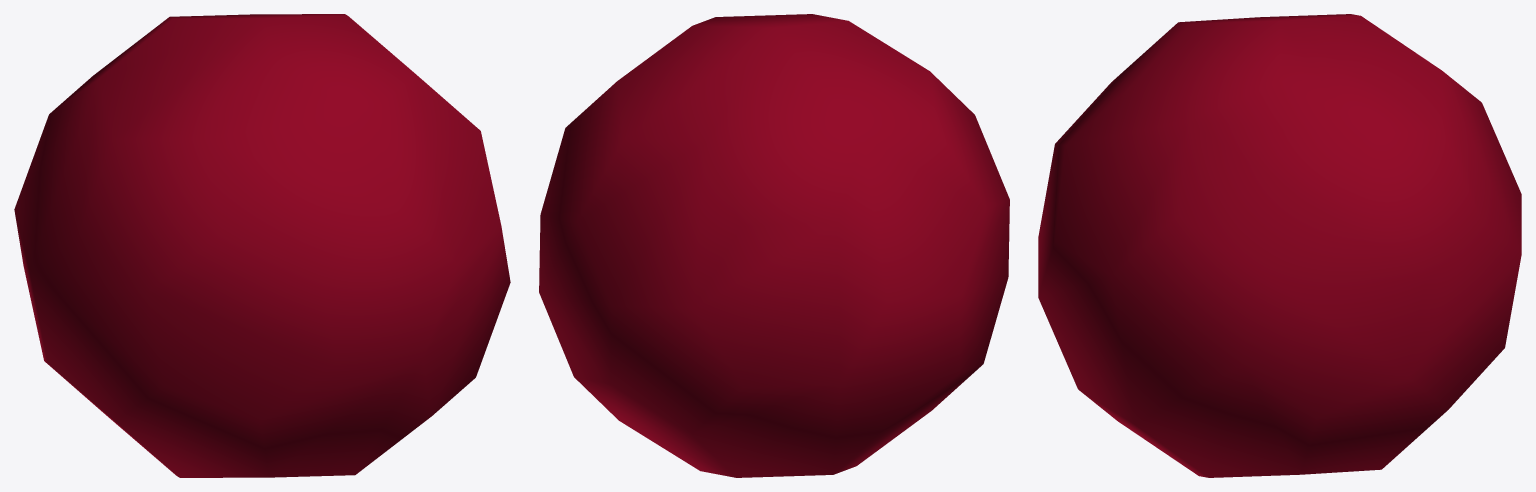
File: WholeFruit.fbx
The picture shows the model from 3 angles, left to right: view 1: azimuth 30°, elevation 25°; view 2: azimuth 150°, elevation 25°; view 3: azimuth 270°, elevation 25°; orthographic projection. The views are drawn at different scales.
Visible parts, largest first — view 1: pSolid1; view 2: pSolid1; view 3: pSolid1.
Part boxes in pixels (bbox=[...]): pSolid1: bbox=[14, 14, 510, 477]; pSolid1: bbox=[539, 14, 1009, 477]; pSolid1: bbox=[1038, 14, 1521, 477].
Size of the model in its own units: 3.64 by 3.69 by 3.59.
